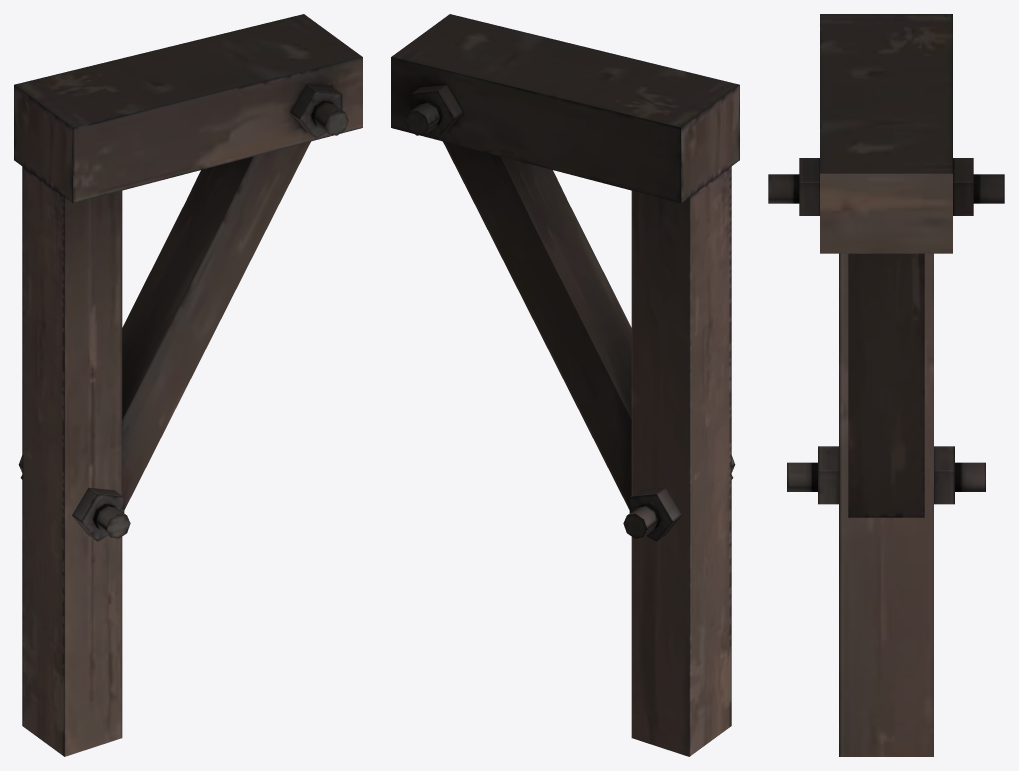
3 views of the same model, side by side, from view 1: azimuth 30°, elevation 25°; view 2: azimuth 150°, elevation 25°; view 3: azimuth 270°, elevation 25° (orthographic). The views are drawn at different scales.
Visible parts, largest first — view 1: body0_model0_lod0_mesh0; view 2: body0_model0_lod0_mesh0; view 3: body0_model0_lod0_mesh0.
Boxes of the visible parts, x1=… form: body0_model0_lod0_mesh0: x1=14, y1=14, x2=362, y2=756; body0_model0_lod0_mesh0: x1=391, y1=14, x2=739, y2=756; body0_model0_lod0_mesh0: x1=768, y1=14, x2=1004, y2=756.
Size of the model in its own units: 40.15 by 84.04 by 25.13.
Materials: 1 (1 with a texture image).
